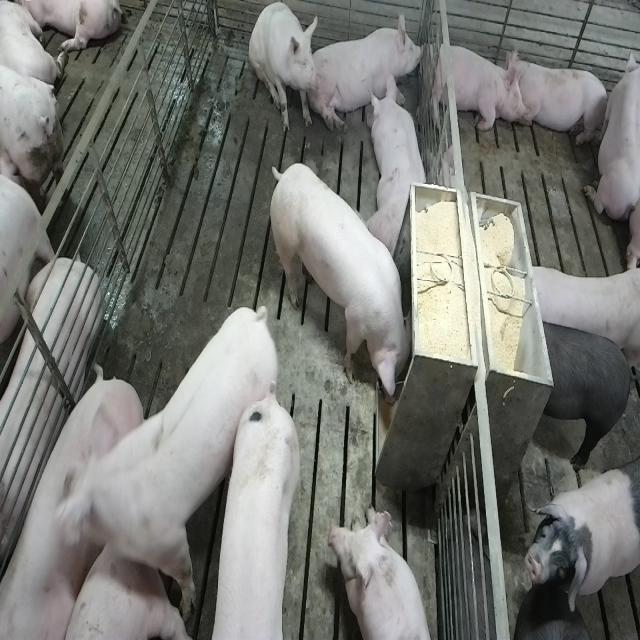Feeding: (272, 161, 420, 409)
Lateral_lying: (0, 367, 148, 640), (0, 257, 102, 581)
Sitting: (249, 2, 321, 136)
Standing: (49, 296, 280, 630), (214, 389, 303, 638), (522, 467, 638, 617), (533, 315, 638, 467), (520, 260, 637, 373)
Sternal_lying: (334, 503, 438, 640), (314, 9, 424, 134), (368, 72, 431, 256), (510, 51, 611, 150), (583, 40, 637, 224), (425, 36, 522, 134)
